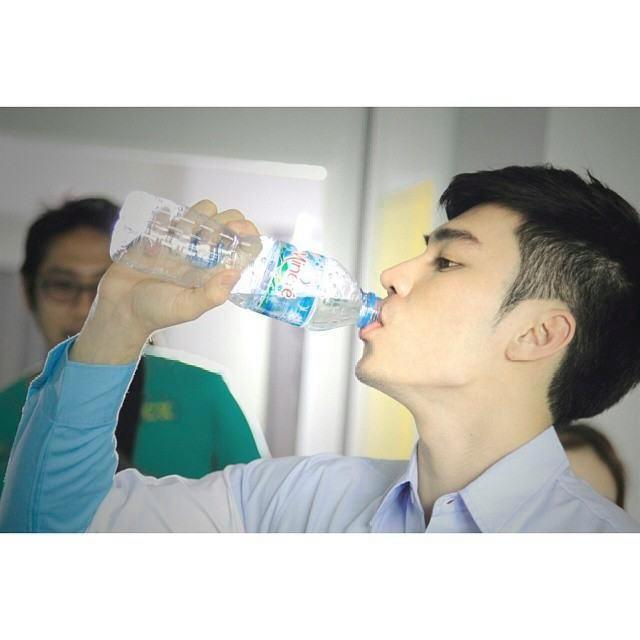bottle: (110, 192, 384, 332)
